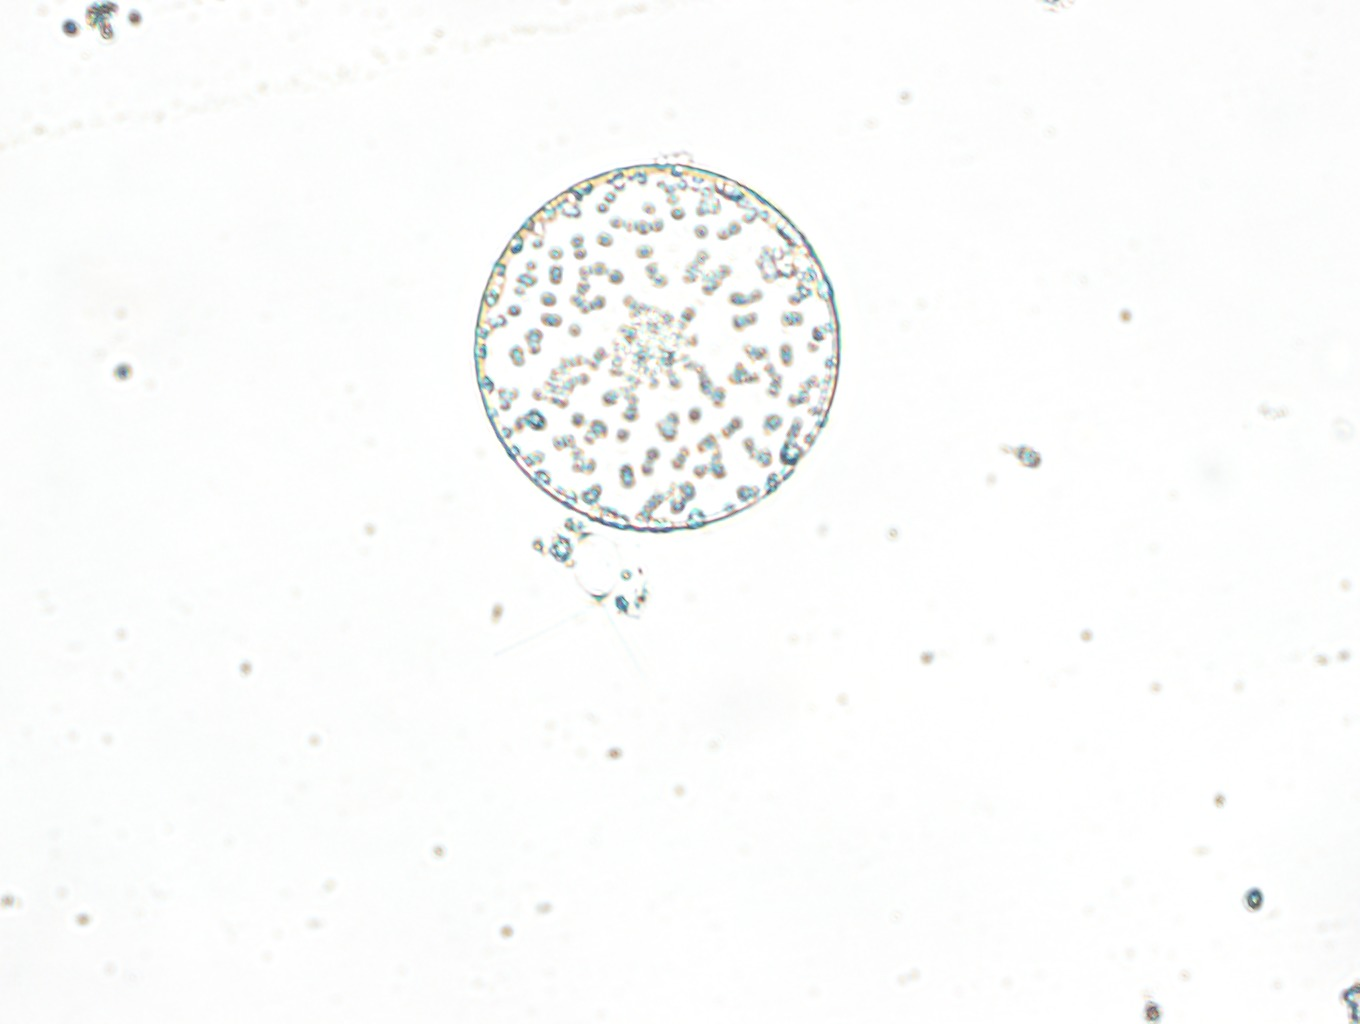coscinodiscus: (468, 162, 850, 539)
